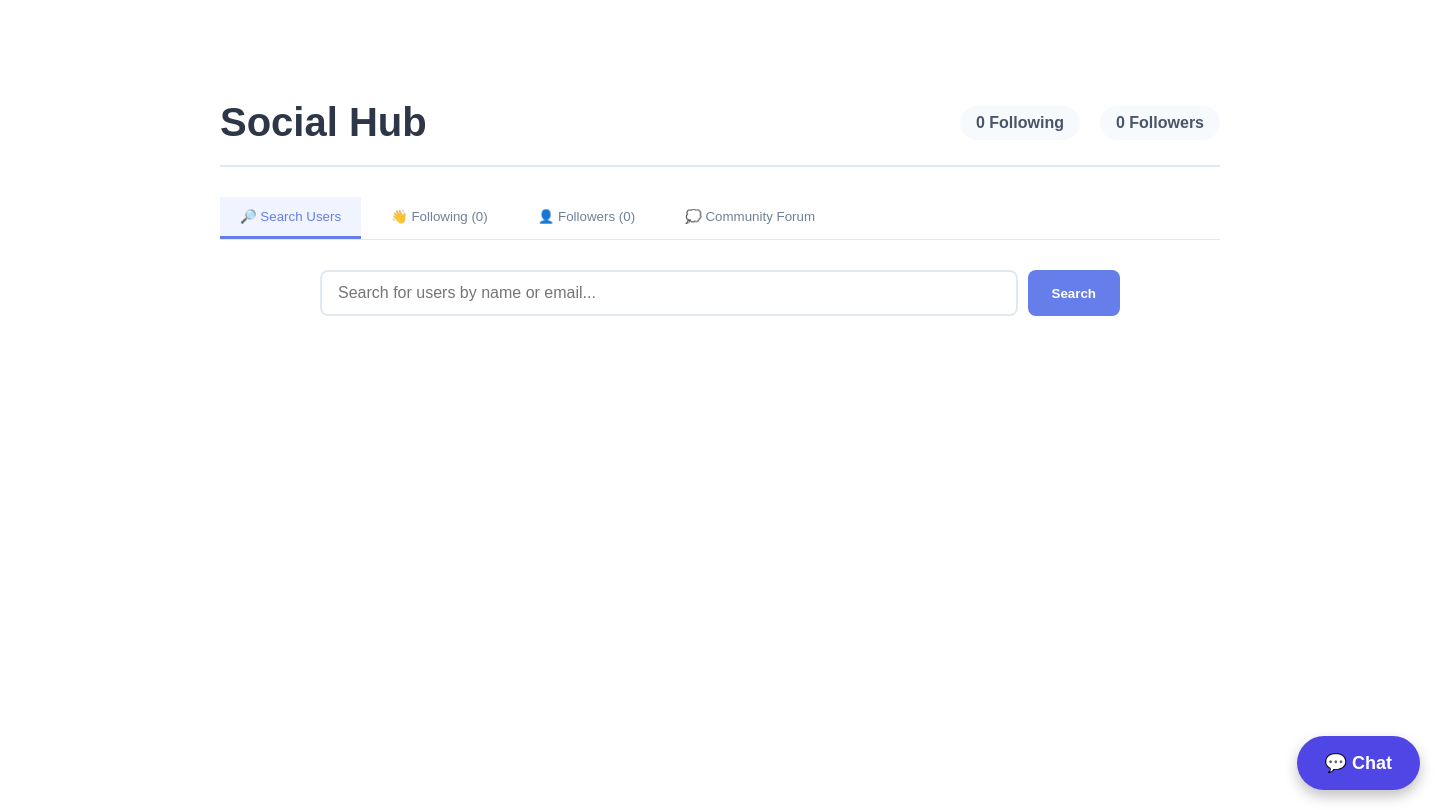
Test: SocialPage › switches to Following tab and displays followed users
What coordinates should you click on to do the following:
click the button "👋 Following (0)"
I would click on:
 (439, 218)
Its box is [371, 197, 508, 239].
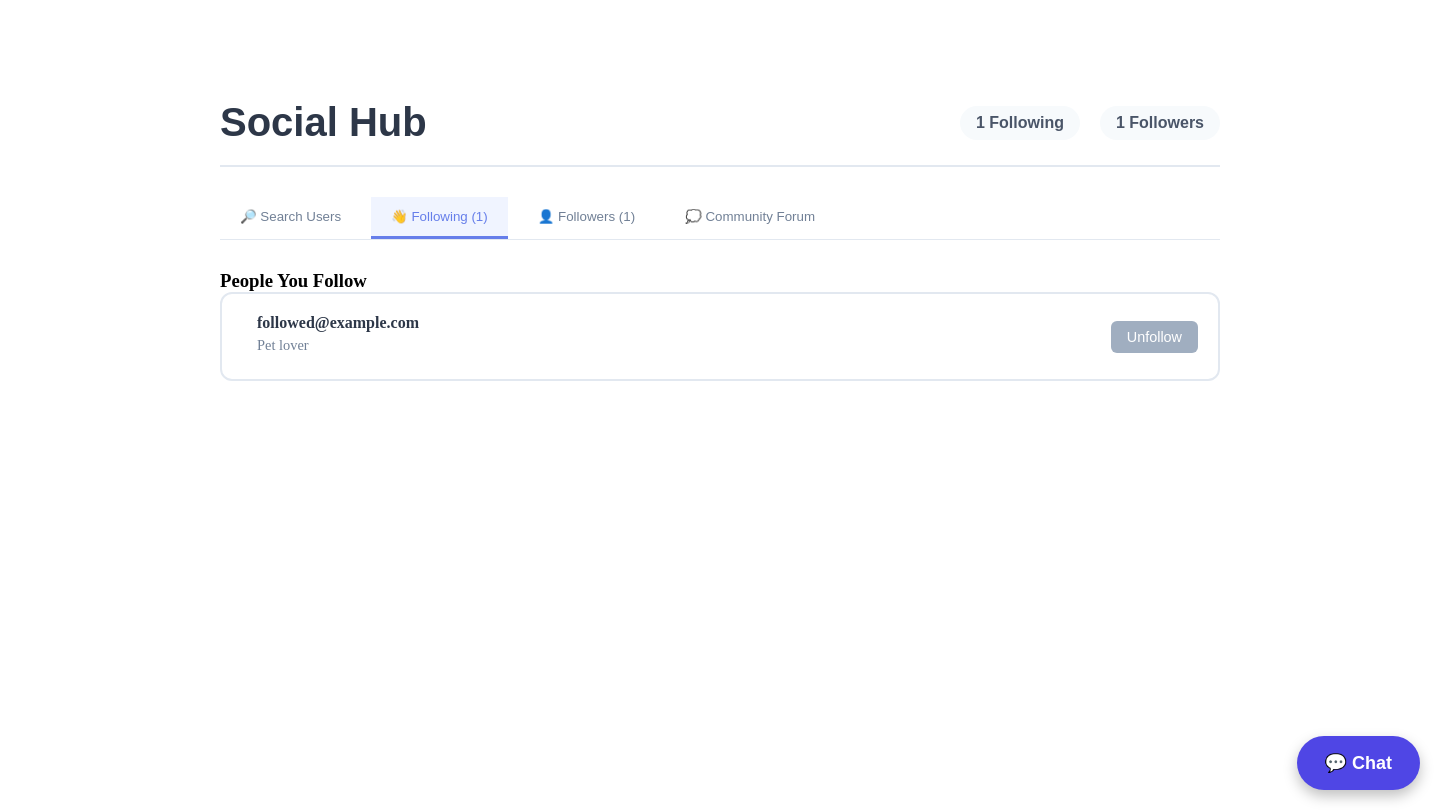
Expected: the heading "People You Follow" is shown, [220, 270, 367, 291]
Expected: the heading "followed@example.com" is shown, [257, 314, 419, 331]
